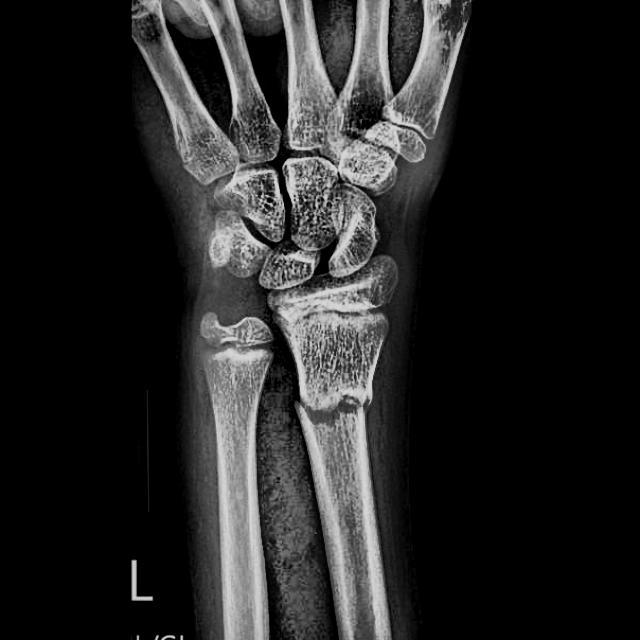fracture: (294, 384, 376, 434)
